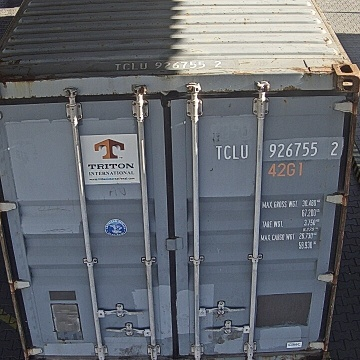serial_id: (216, 141, 339, 159)
